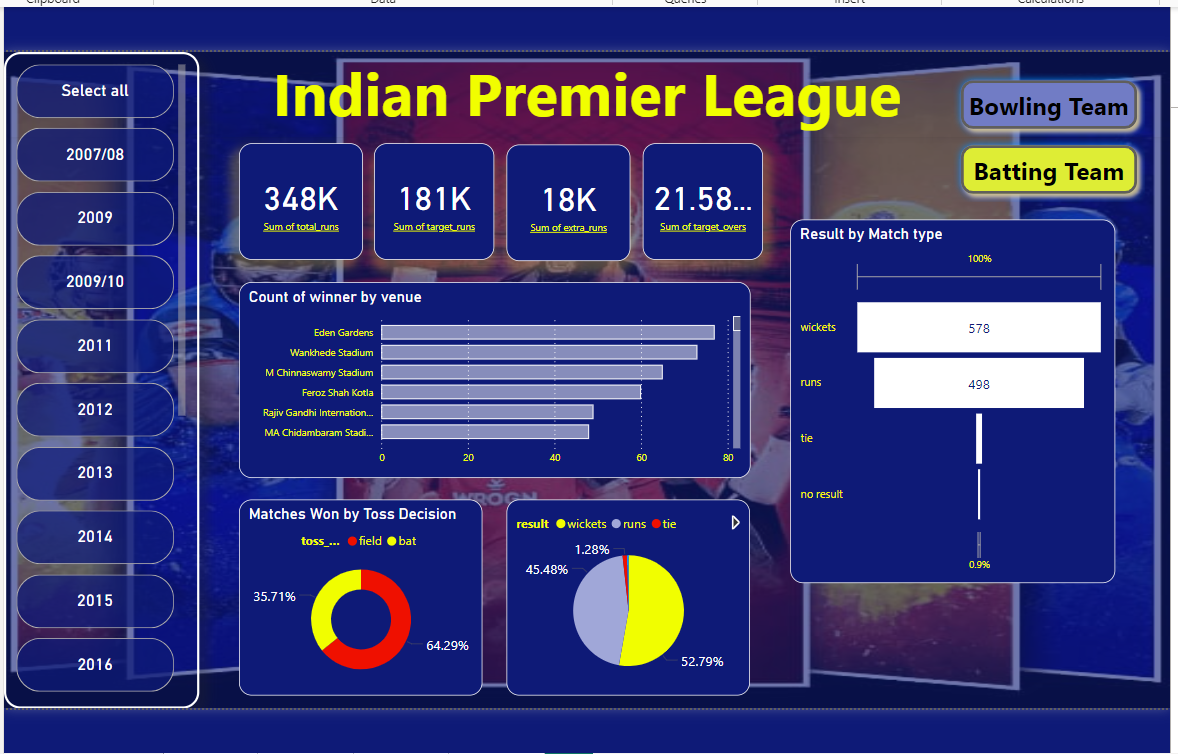

The dashboard page shown, as its layout file describes it:
{"tool":"powerbi","page":{"name":"Page 1","canvas":[1280,720],"ordinal":0},"visuals":[{"type":"textbox","title":"Indian Premier League","box":[0,0,1280.3,93.3],"z":0},{"type":"advancedSlicerVisual","fields":{"Values":["matches.season"]},"box":[0,0,214.1,720.4],"z":1000},{"type":"barChart","fields":{"Y":["CountNonNull(matches.winner)"],"Category":["matches.venue"]},"box":[258,252.5,561.2,215.4],"z":2000},{"type":"card","fields":{"Values":["Sum(deliveries.total_runs)"]},"box":[258,100.2,135.8,127.6],"z":3000},{"type":"card","fields":{"Values":["Sum(matches.target_overs)"]},"box":[701.2,100.2,131.7,127.6],"z":4000},{"type":"card","fields":{"Values":["Sum(matches.target_runs)"]},"box":[406.2,100.2,131.7,127.6],"z":5000},{"type":"card","fields":{"Values":["Sum(deliveries.extra_runs)"]},"box":[551.6,101.5,135.8,127.6],"z":6000},{"type":"donutChart","title":"Matches Won by Toss Decision","fields":{"Category":["matches.toss_decision"],"Y":["CountNonNull(matches.toss_winner)"]},"box":[258,491.3,267.6,215.4],"z":7000},{"type":"pieChart","fields":{"Category":["matches.result"],"Y":["CountNonNull(matches.match_type)"]},"box":[551.6,491.3,267.6,215.4],"z":8000},{"type":"actionButton","box":[1041.5,22,211.3,71.4],"z":9000},{"type":"actionButton","box":[1041.5,93.3,211.3,71.4],"z":10000},{"type":"funnel","title":"Result by Match type","fields":{"Category":["matches.result"],"Y":["CountNonNull(matches.match_type)"]},"box":[863.1,183.9,356.8,399.3],"z":11000},{"type":"actionButton","box":[1070.3,634,200.3,53.5],"z":12000}]}

Visuals, with their boxes on the page's 1280x720 design canvas (x1, y1, x2, y2). These are canvas units, not pixel positions in the 1178x754 screenshot, which may show the page scaled, cropped or inside an application window:
"Indian Premier League" textbox: 0, 0, 1280, 93
advancedSlicerVisual - matches.season: 0, 0, 214, 720
barChart - CountNonNull(matches.winner) x matches.venue: 258, 252, 819, 468
card - Sum(deliveries.total_runs): 258, 100, 394, 228
card - Sum(matches.target_overs): 701, 100, 833, 228
card - Sum(matches.target_runs): 406, 100, 538, 228
card - Sum(deliveries.extra_runs): 552, 102, 687, 229
"Matches Won by Toss Decision" donutChart: 258, 491, 526, 707
pieChart - matches.result x CountNonNull(matches.match_type): 552, 491, 819, 707
actionButton: 1042, 22, 1253, 93
actionButton: 1042, 93, 1253, 165
"Result by Match type" funnel: 863, 184, 1220, 583
actionButton: 1070, 634, 1271, 688
